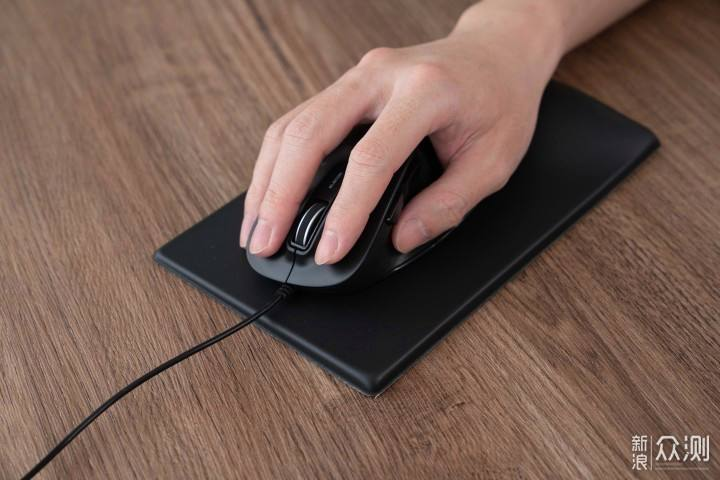no-phone: (236, 4, 568, 287)
